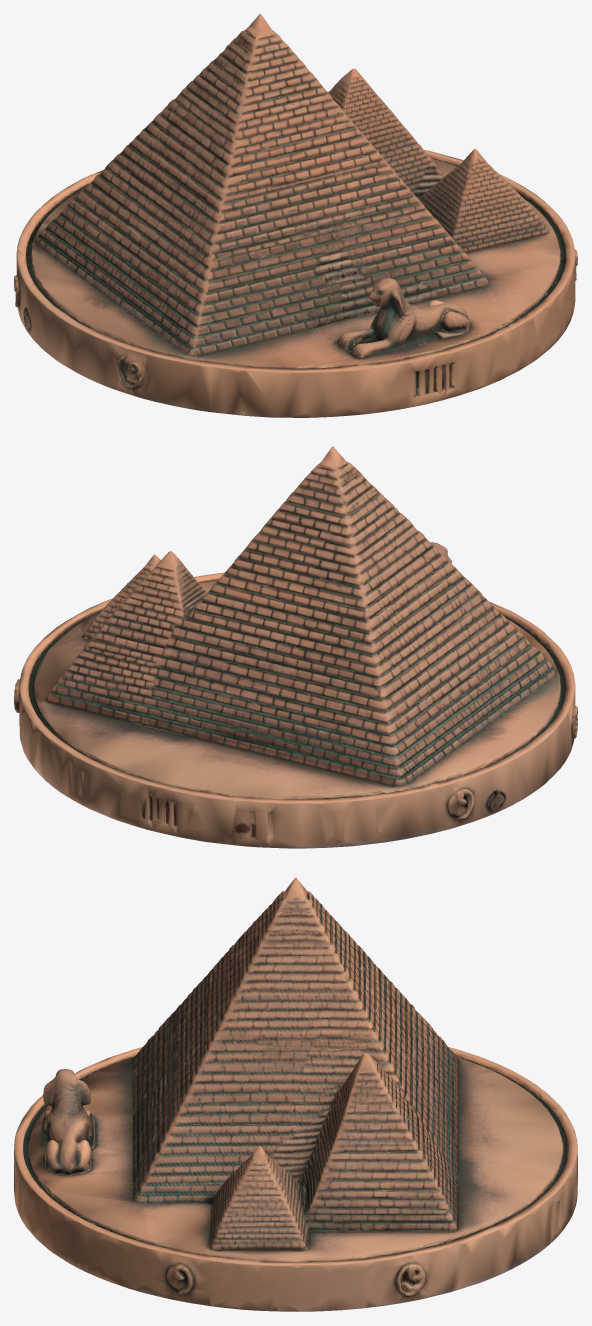
File: pyramid_giza_celestial.glb
The picture shows the model from 3 angles, top to bottom: view 1: azimuth 30°, elevation 25°; view 2: azimuth 150°, elevation 25°; view 3: azimuth 270°, elevation 25°; orthographic projection.
Parts seen in each view (by area): view 1: Mesh_0; view 2: Mesh_0; view 3: Mesh_0.
Part boxes in pixels (left/top/right/bottom): Mesh_0: left=14, top=14, right=577, bottom=417; Mesh_0: left=14, top=446, right=577, bottom=848; Mesh_0: left=14, top=877, right=577, bottom=1311.
Size of the model in its own units: 1.91 by 1.12 by 1.91.
1 material, 1 textured.
